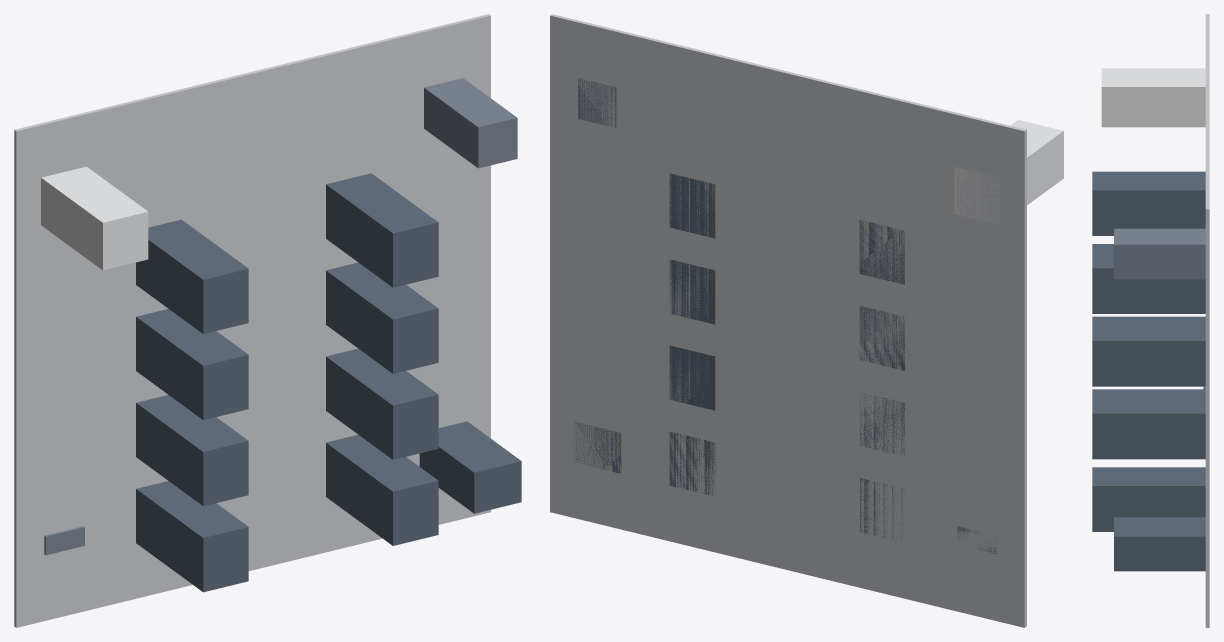
The model's file is datacenter_room_assembled.glb.
The picture shows the model from 3 angles, left to right: view 1: azimuth 30°, elevation 25°; view 2: azimuth 150°, elevation 25°; view 3: azimuth 270°, elevation 25°; orthographic projection. The views are drawn at different scales.
Visible parts, largest first — view 1: floor_0, rack_176, rack_151, rack_1, rack_126, rack_51, rack_76, rack_26, rack_101, cooler_201, cabinet_206, ups_204 (+1 smaller); view 2: floor_0, cooler_201, rack_76, rack_176, rack_126, rack_151, rack_101, rack_26, rack_51, ups_204, cabinet_206, rack_1; view 3: rack_76, rack_126, rack_151, cooler_201, rack_26, cabinet_206, ups_204, rack_176, floor_0, rack_51, rack_1.
Boxes of the visible parts, x1=… form: floor_0: x1=14, y1=14, x2=490, y2=627; rack_176: x1=326, y1=173, x2=438, y2=287; rack_151: x1=136, y1=219, x2=248, y2=333; rack_1: x1=136, y1=481, x2=248, y2=592; rack_126: x1=326, y1=262, x2=438, y2=373; rack_51: x1=136, y1=395, x2=248, y2=506; rack_76: x1=326, y1=348, x2=438, y2=459; rack_26: x1=326, y1=434, x2=438, y2=545; rack_101: x1=136, y1=309, x2=248, y2=419; cooler_201: x1=41, y1=166, x2=148, y2=270; cabinet_206: x1=419, y1=421, x2=521, y2=513; ups_204: x1=424, y1=78, x2=517, y2=168; floor_0: x1=550, y1=14, x2=1026, y2=627; cooler_201: x1=954, y1=120, x2=1063, y2=224; rack_76: x1=669, y1=345, x2=715, y2=410; rack_176: x1=669, y1=173, x2=715, y2=238; rack_126: x1=669, y1=259, x2=715, y2=324; rack_151: x1=859, y1=220, x2=904, y2=284; rack_101: x1=859, y1=306, x2=904, y2=370; rack_26: x1=669, y1=431, x2=715, y2=495; rack_51: x1=860, y1=393, x2=904, y2=456; ups_204: x1=578, y1=78, x2=617, y2=128; cabinet_206: x1=574, y1=422, x2=621, y2=473; rack_1: x1=860, y1=478, x2=904, y2=539; rack_76: x1=1092, y1=394, x2=1205, y2=459; rack_126: x1=1092, y1=322, x2=1205, y2=386; rack_151: x1=1092, y1=171, x2=1205, y2=235; cooler_201: x1=1101, y1=68, x2=1205, y2=127; rack_26: x1=1092, y1=467, x2=1205, y2=531; cabinet_206: x1=1114, y1=517, x2=1205, y2=571; ups_204: x1=1114, y1=228, x2=1205, y2=279; rack_176: x1=1092, y1=249, x2=1205, y2=313; floor_0: x1=1205, y1=14, x2=1209, y2=627; rack_51: x1=1092, y1=316, x2=1205, y2=322; rack_1: x1=1092, y1=389, x2=1205, y2=394.
Bounding box in the file's own units: 7.5 × 7.5 × 1.9.
